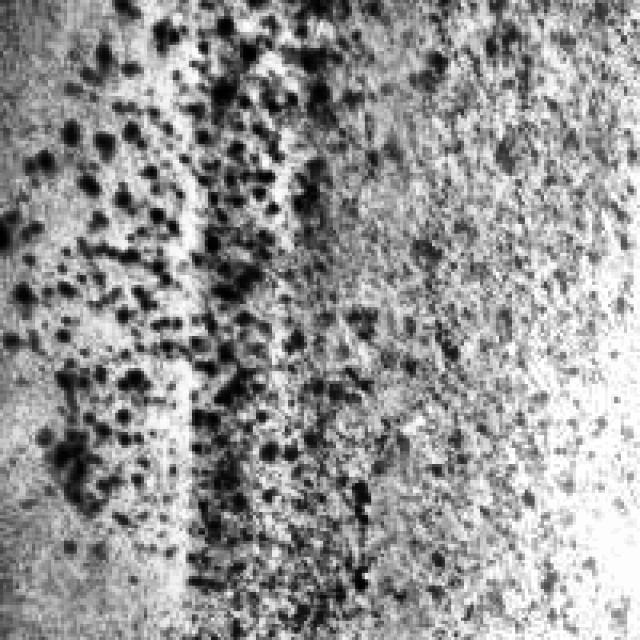Rolled_in_Scale: (0, 0, 461, 608)
